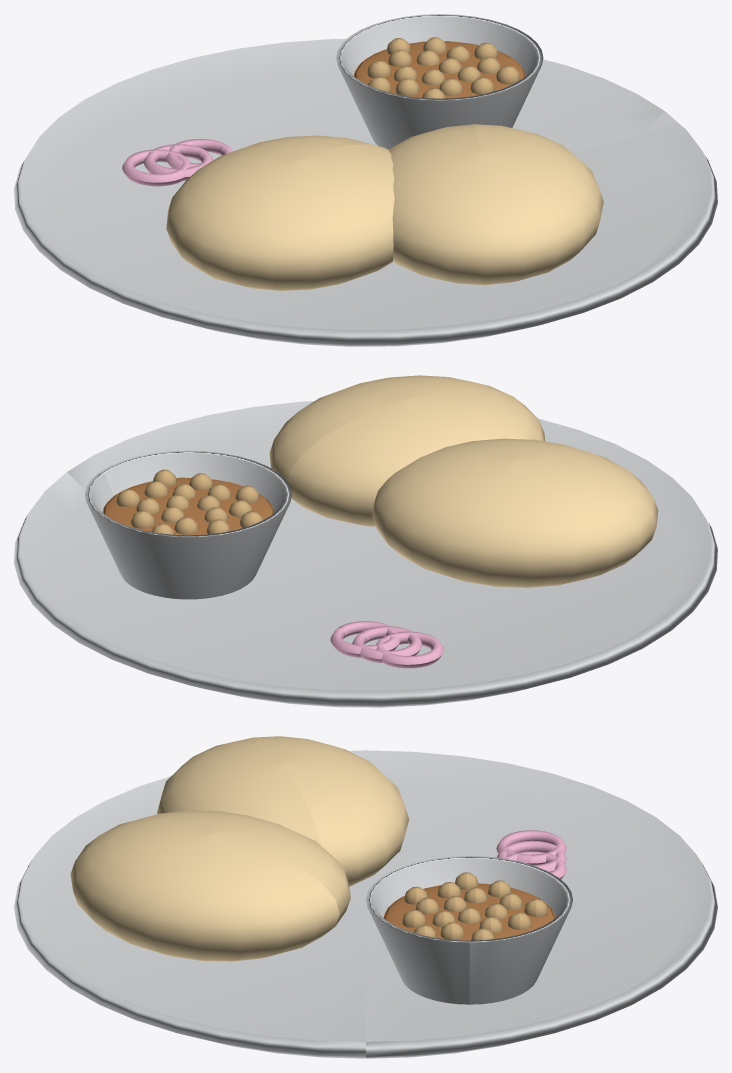
File: chole-bhature.glb
3 renders of one model, top to bottom at view 1: azimuth 30°, elevation 25°; view 2: azimuth 150°, elevation 25°; view 3: azimuth 270°, elevation 25°, orthographic.
Visible parts, largest first — view 1: chole-bhature; view 2: chole-bhature; view 3: chole-bhature.
Boxes of the visible parts, left/top/right/bottom form: chole-bhature: left=14, top=14, right=717, bottom=346; chole-bhature: left=14, top=375, right=717, bottom=707; chole-bhature: left=14, top=736, right=717, bottom=1058.
Size of the model in its own units: 0.34 by 0.058 by 0.34.
